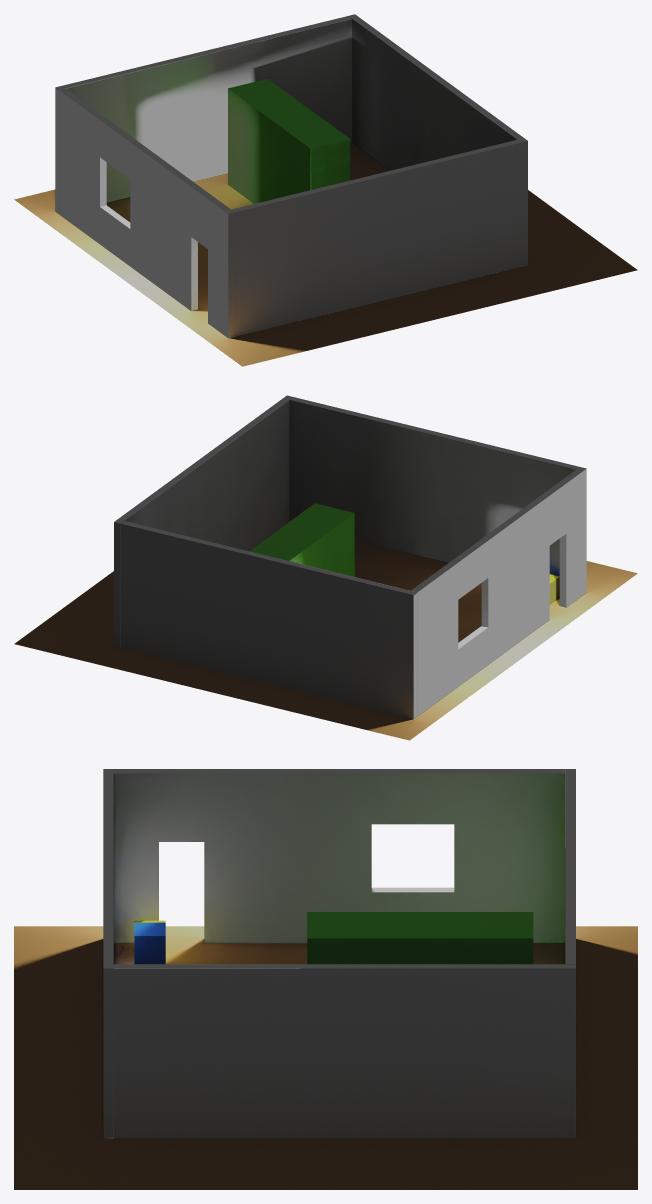
3 renders of one model, top to bottom at view 1: azimuth 30°, elevation 25°; view 2: azimuth 150°, elevation 25°; view 3: azimuth 270°, elevation 25°, orthographic. The views are drawn at different scales.
Visible parts, largest first — view 1: Walls, Floor, Object; view 2: Walls, Floor, Object; view 3: Walls, Floor, Object, Cube.001.
Part boxes in pixels (x1=…): Walls: x1=55, y1=14, x2=527, y2=338; Floor: x1=14, y1=143, x2=637, y2=366; Object: x1=228, y1=79, x2=350, y2=203; Walls: x1=114, y1=395, x2=586, y2=719; Floor: x1=14, y1=540, x2=637, y2=740; Object: x1=250, y1=503, x2=354, y2=576; Walls: x1=103, y1=769, x2=575, y2=1138; Floor: x1=14, y1=926, x2=637, y2=1189; Object: x1=307, y1=912, x2=533, y2=964; Cube.001: x1=134, y1=922, x2=165, y2=964.
Size of the model in its own units: 20 by 6.13 by 20.
Materials: 5 (5 with a texture image).
